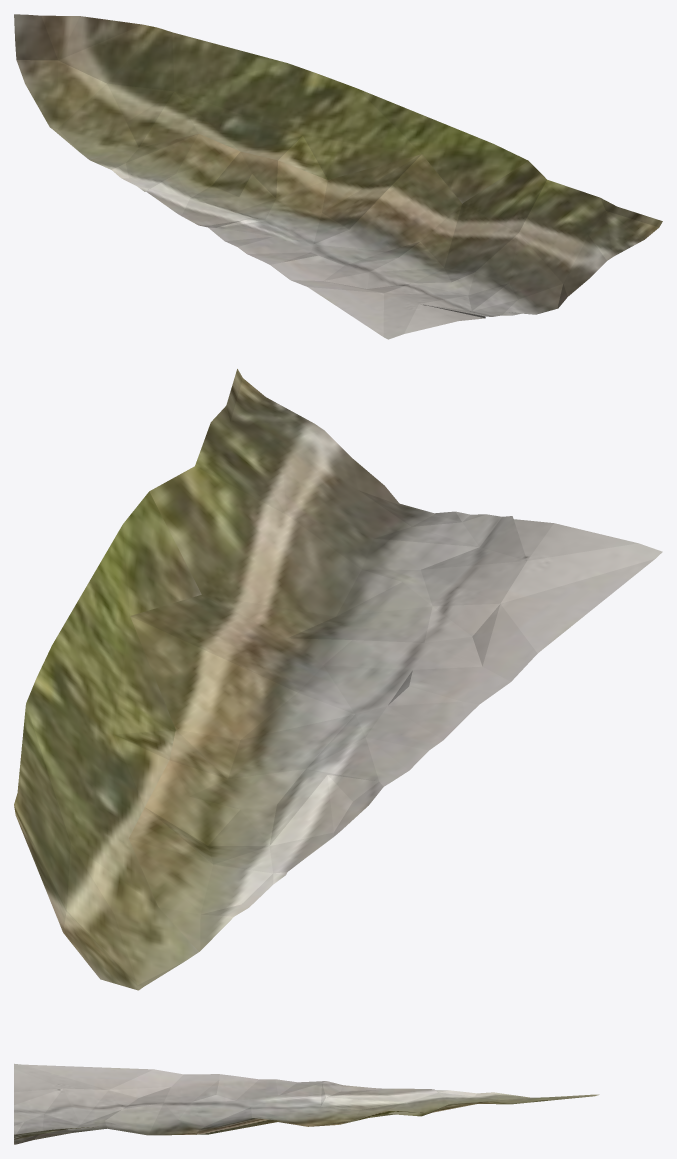
The picture shows the model from 3 angles, top to bottom: view 1: azimuth 30°, elevation 25°; view 2: azimuth 150°, elevation 25°; view 3: azimuth 270°, elevation 25°; orthographic projection. The views are drawn at different scales.
Size of the model in its own units: 2.31 by 0.7271 by 5.44.
Materials: 1 (1 with a texture image).
